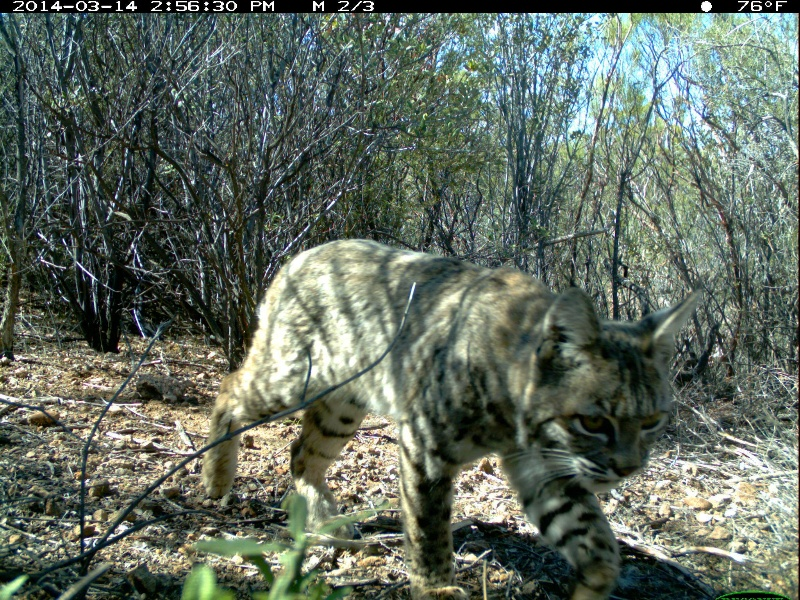cat: (200, 233, 702, 585)
